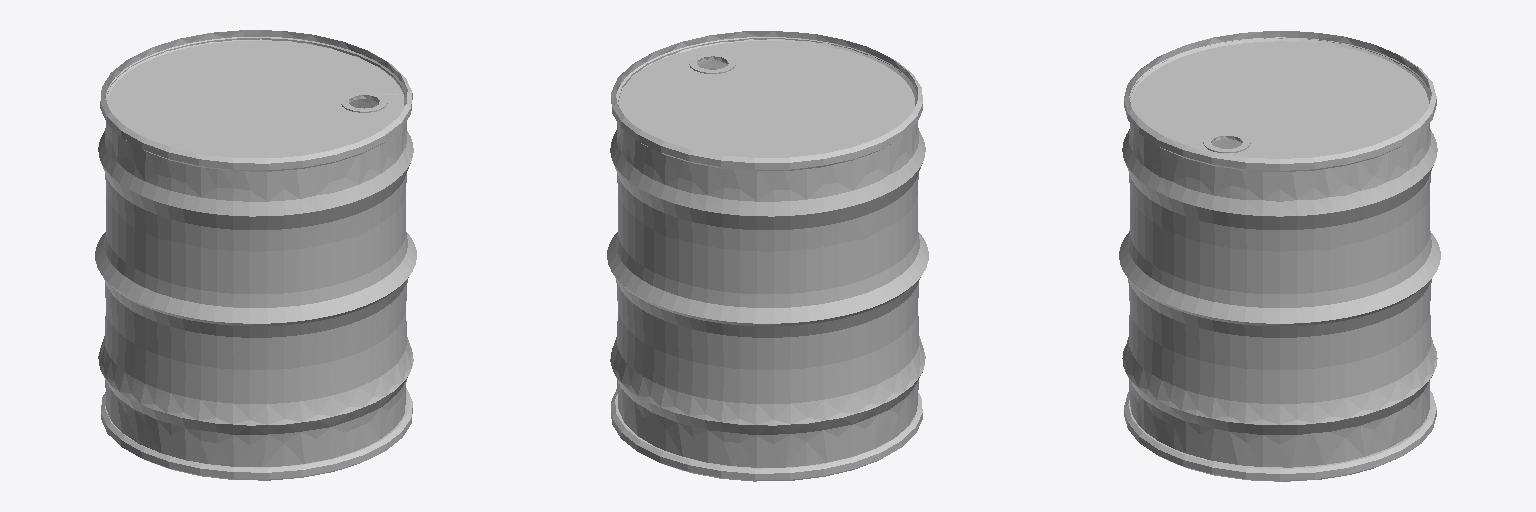
Rendered from barrel.obj.
The picture shows the model from 3 angles: view 1: azimuth 30°, elevation 25°; view 2: azimuth 150°, elevation 25°; view 3: azimuth 270°, elevation 25°; orthographic projection.
Size of the model in its own units: 4.7 by 5.21 by 4.7.